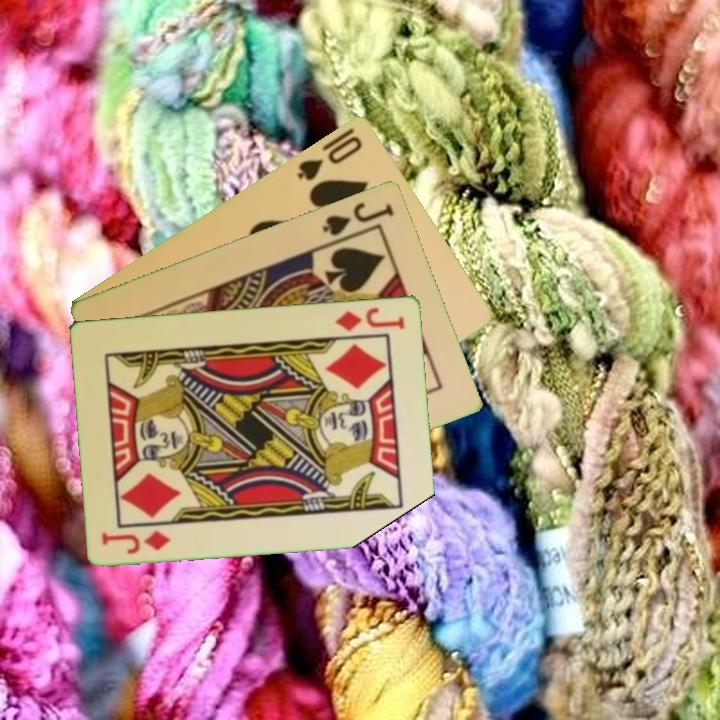10s: (293, 131, 366, 184)
Jd: (333, 303, 408, 334), (98, 527, 173, 557)
Js: (319, 198, 397, 238)
